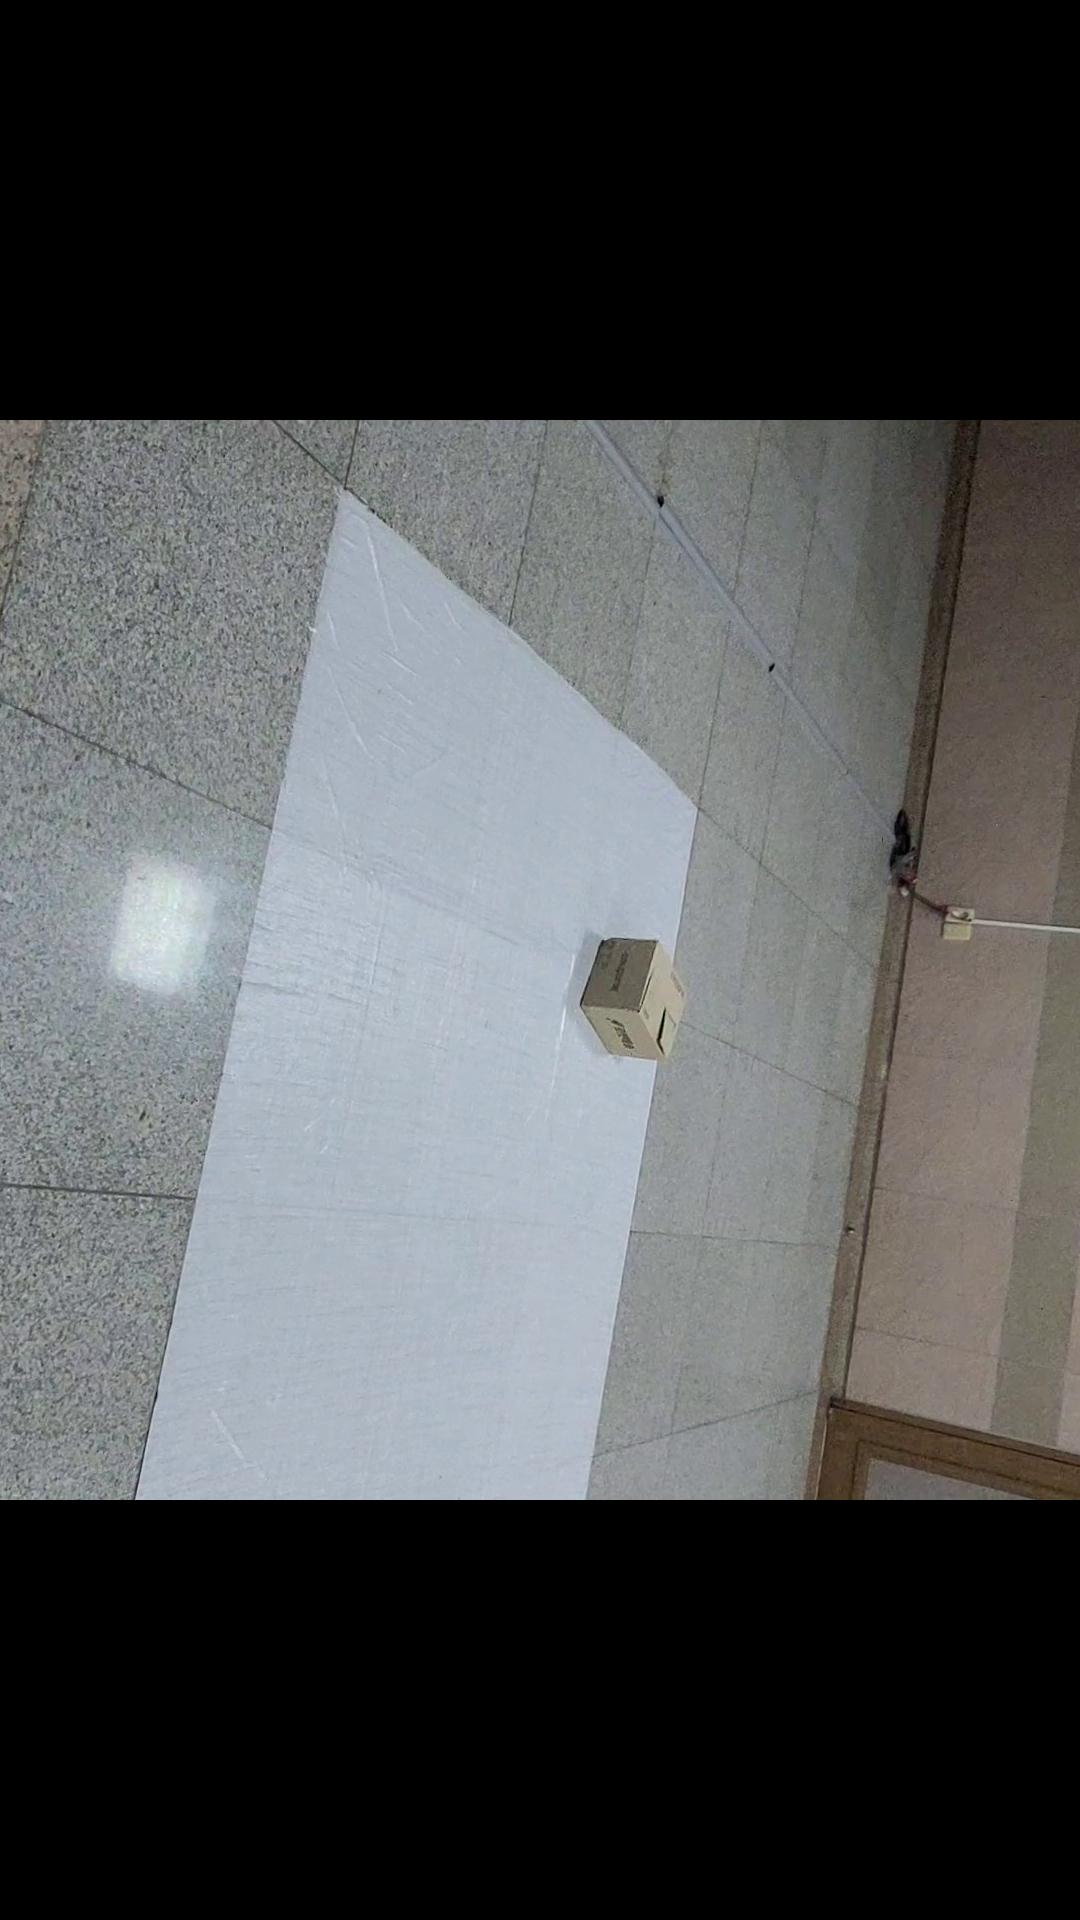Box: (580, 934, 695, 1069)
